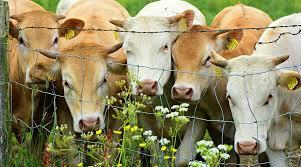cow: (225, 12, 301, 167), (31, 43, 125, 139), (120, 17, 194, 103), (6, 14, 84, 88), (172, 24, 244, 104)
